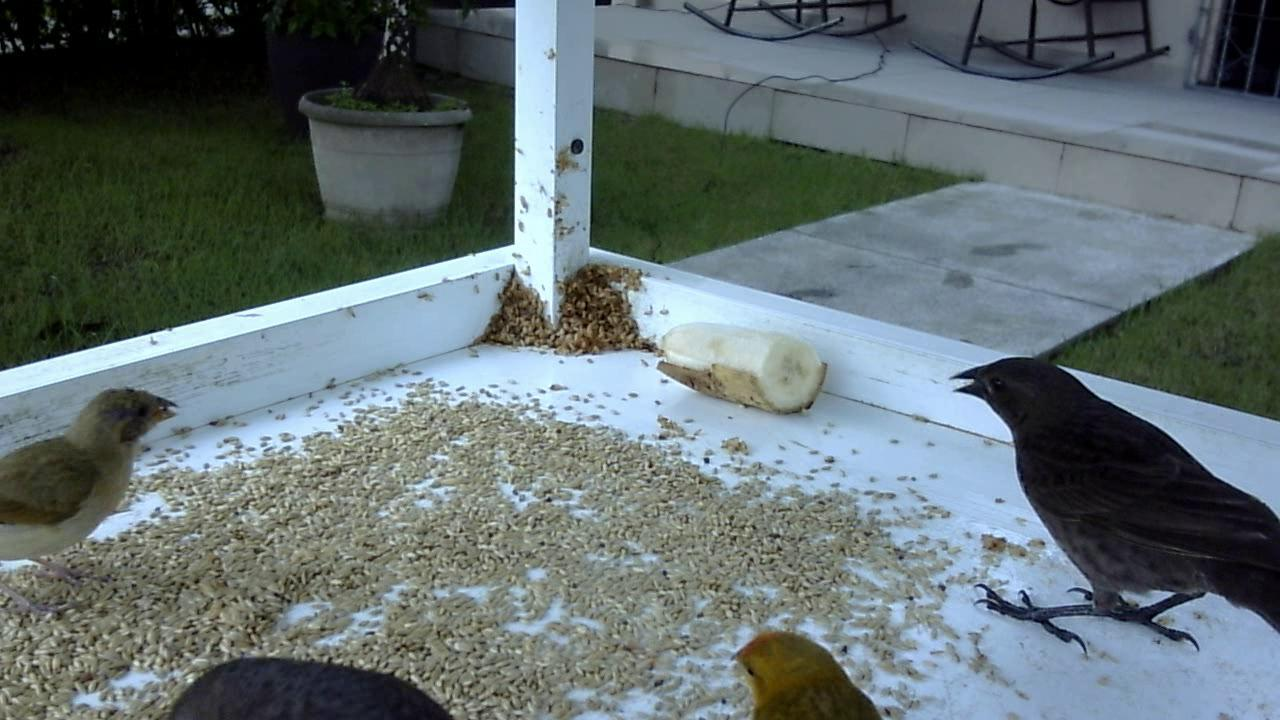canario_do_amazonas: (1, 384, 187, 623), (718, 623, 898, 715)
chupim: (939, 340, 1280, 669)
